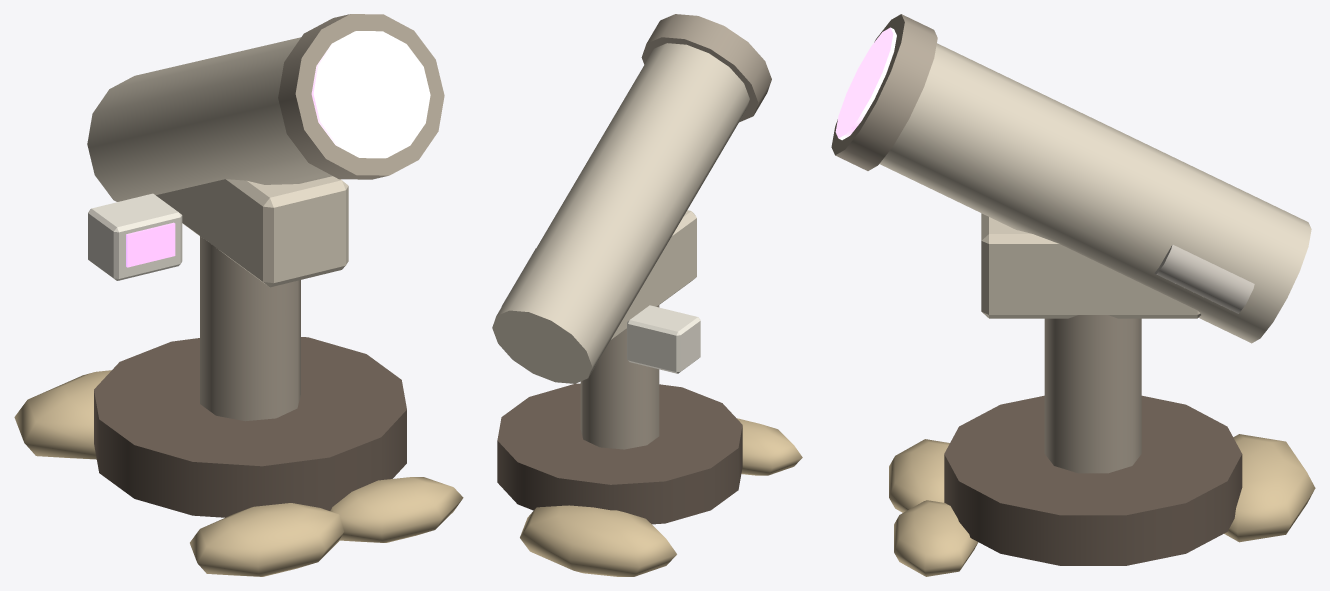
The model's file is du_scope.glb.
The picture shows the model from 3 angles, left to right: view 1: azimuth 30°, elevation 25°; view 2: azimuth 150°, elevation 25°; view 3: azimuth 270°, elevation 25°; orthographic projection. The views are drawn at different scales.
Parts seen in each view (by area): view 1: du_scope; view 2: du_scope; view 3: du_scope.
Boxes of the visible parts, <box> form: du_scope: <box>14,14,463,576</box>; du_scope: <box>492,14,802,576</box>; du_scope: <box>831,14,1315,576</box>.
Bounding box in the file's own units: 1.65 × 3.1 × 2.6.
